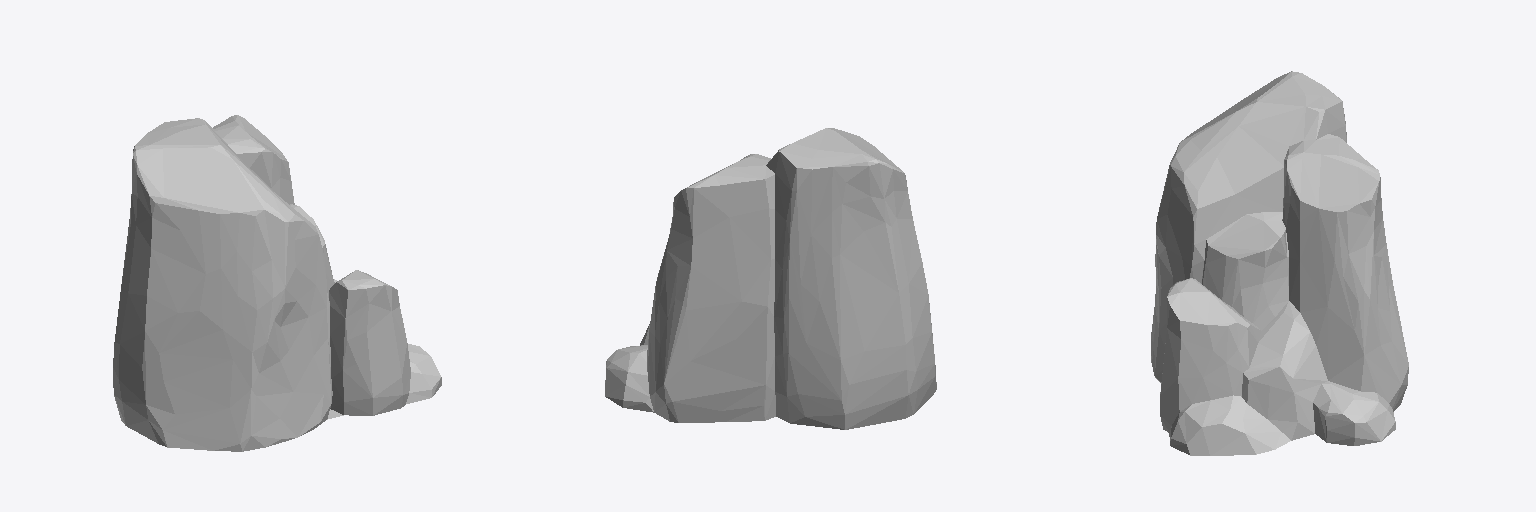
The model's file is Rockk1.obj.
The picture shows the model from 3 angles: view 1: azimuth 30°, elevation 25°; view 2: azimuth 150°, elevation 25°; view 3: azimuth 270°, elevation 25°; orthographic projection.
Visible parts, largest first — view 1: Rockk1; view 2: Rockk1; view 3: Rockk1.
Part boxes in pixels (left/top/right/bottom): Rockk1: left=113, top=115, right=441, bottom=451; Rockk1: left=605, top=128, right=936, bottom=429; Rockk1: left=1151, top=71, right=1408, bottom=455.
Size of the model in its own units: 4.2 by 3.7 by 3.3.